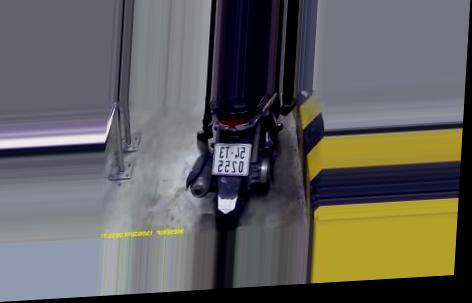License_Plate: (208, 139, 258, 181)
